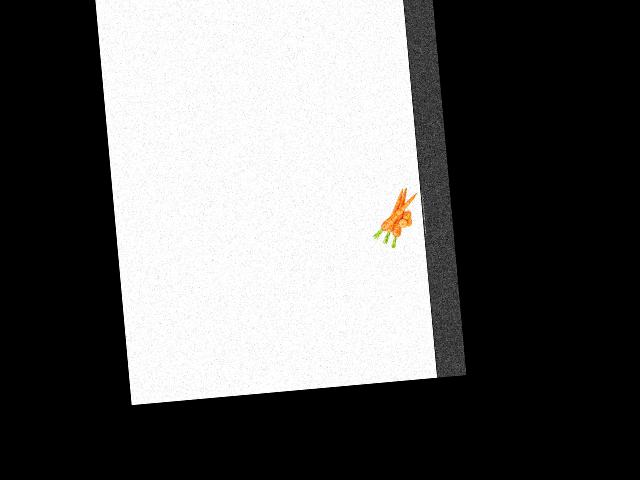carrot: (382, 186, 409, 242)
